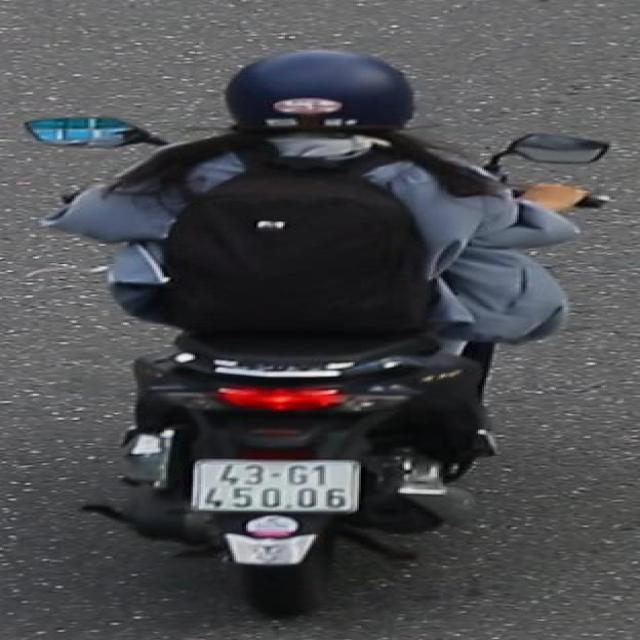LP: (185, 455, 369, 519)
helmet: (213, 46, 431, 150)
